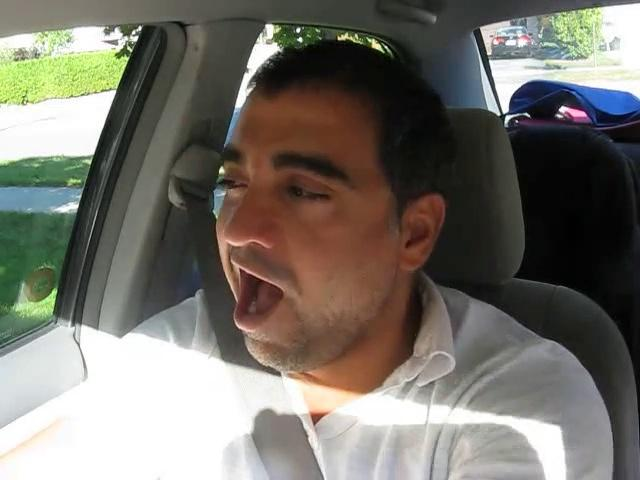close_eyeL: (209, 164, 257, 200)
close_eyeR: (268, 170, 355, 218)
yawn: (203, 254, 310, 338)
